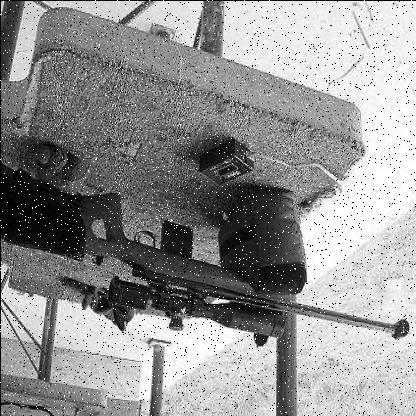rifle: (1, 132, 409, 373)
